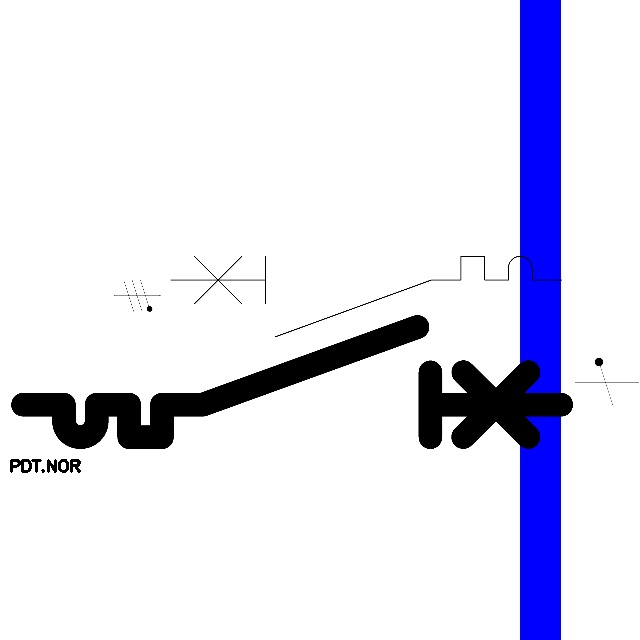interruptor_termomagnetico: (9, 313, 575, 451), (160, 246, 571, 346)
